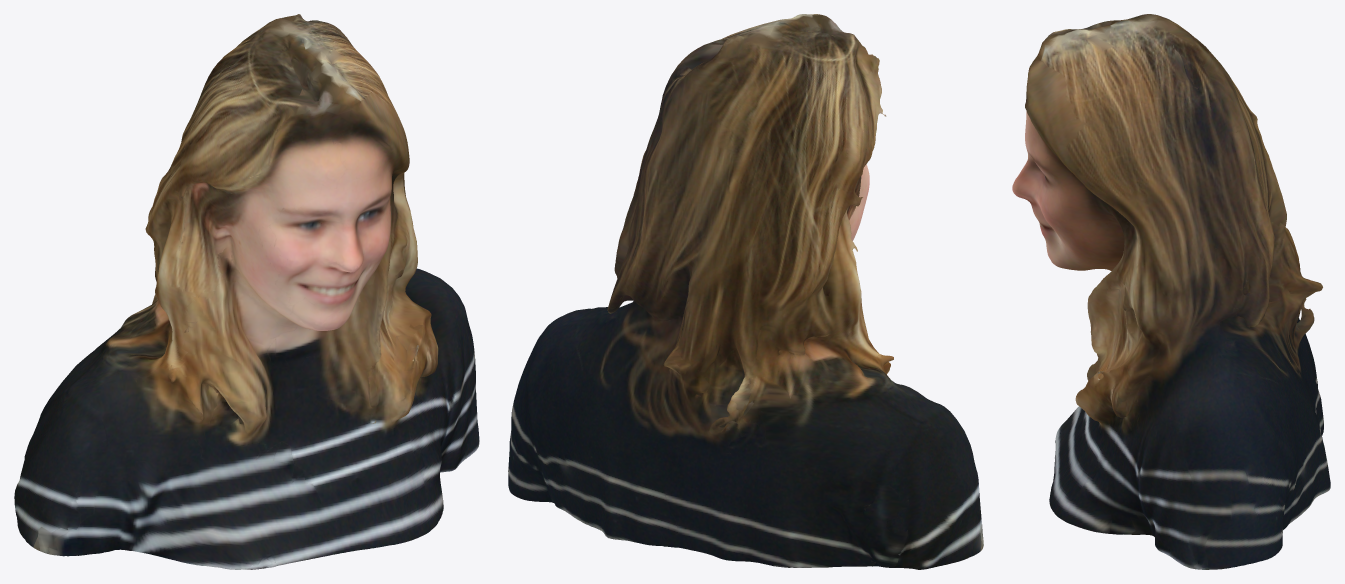
File: person.glb
3 views of the same model, side by side, from view 1: azimuth 30°, elevation 25°; view 2: azimuth 150°, elevation 25°; view 3: azimuth 270°, elevation 25° (orthographic). The views are drawn at different scales.
Parts seen in each view (by area): view 1: Object_2; view 2: Object_2; view 3: Object_2.
Part boxes in pixels (box(x1,y1,x2,y2)): Object_2: box(14, 14, 479, 569); Object_2: box(508, 14, 983, 569); Object_2: box(1012, 14, 1330, 569).
Bounding box in the file's own units: 0.443 × 0.454 × 0.2873.
Materials: 1 (1 with a texture image).
